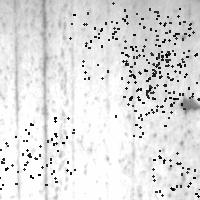pitted_surface: (48, 3, 103, 198), (114, 113, 199, 200), (121, 44, 181, 103), (125, 54, 185, 113), (125, 18, 184, 76), (0, 129, 57, 188), (115, 91, 170, 150), (82, 22, 138, 78), (147, 50, 200, 109), (136, 8, 192, 63), (22, 117, 74, 174), (152, 152, 200, 200), (69, 0, 126, 40), (176, 92, 200, 116)
